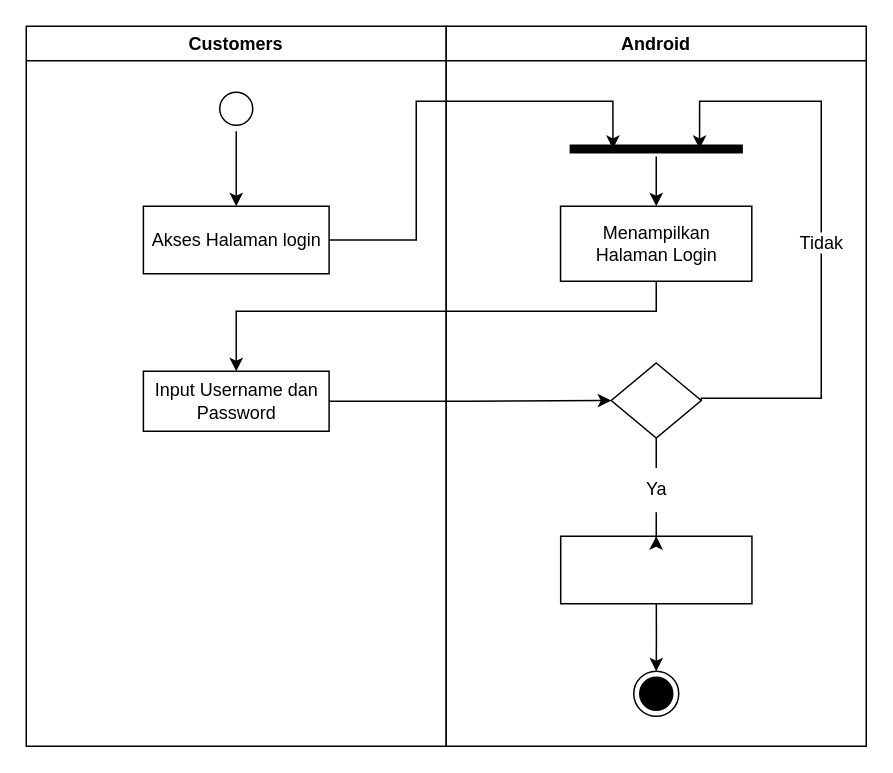
Image size: 893x773. Some labels were removed from this diagram. The centre of each missing label's shape, as x and y in pixels:
"Benar" belongs at (x=655, y=400).
"Menampilkan Daftar Pelatihan" belongs at (x=655, y=569).
